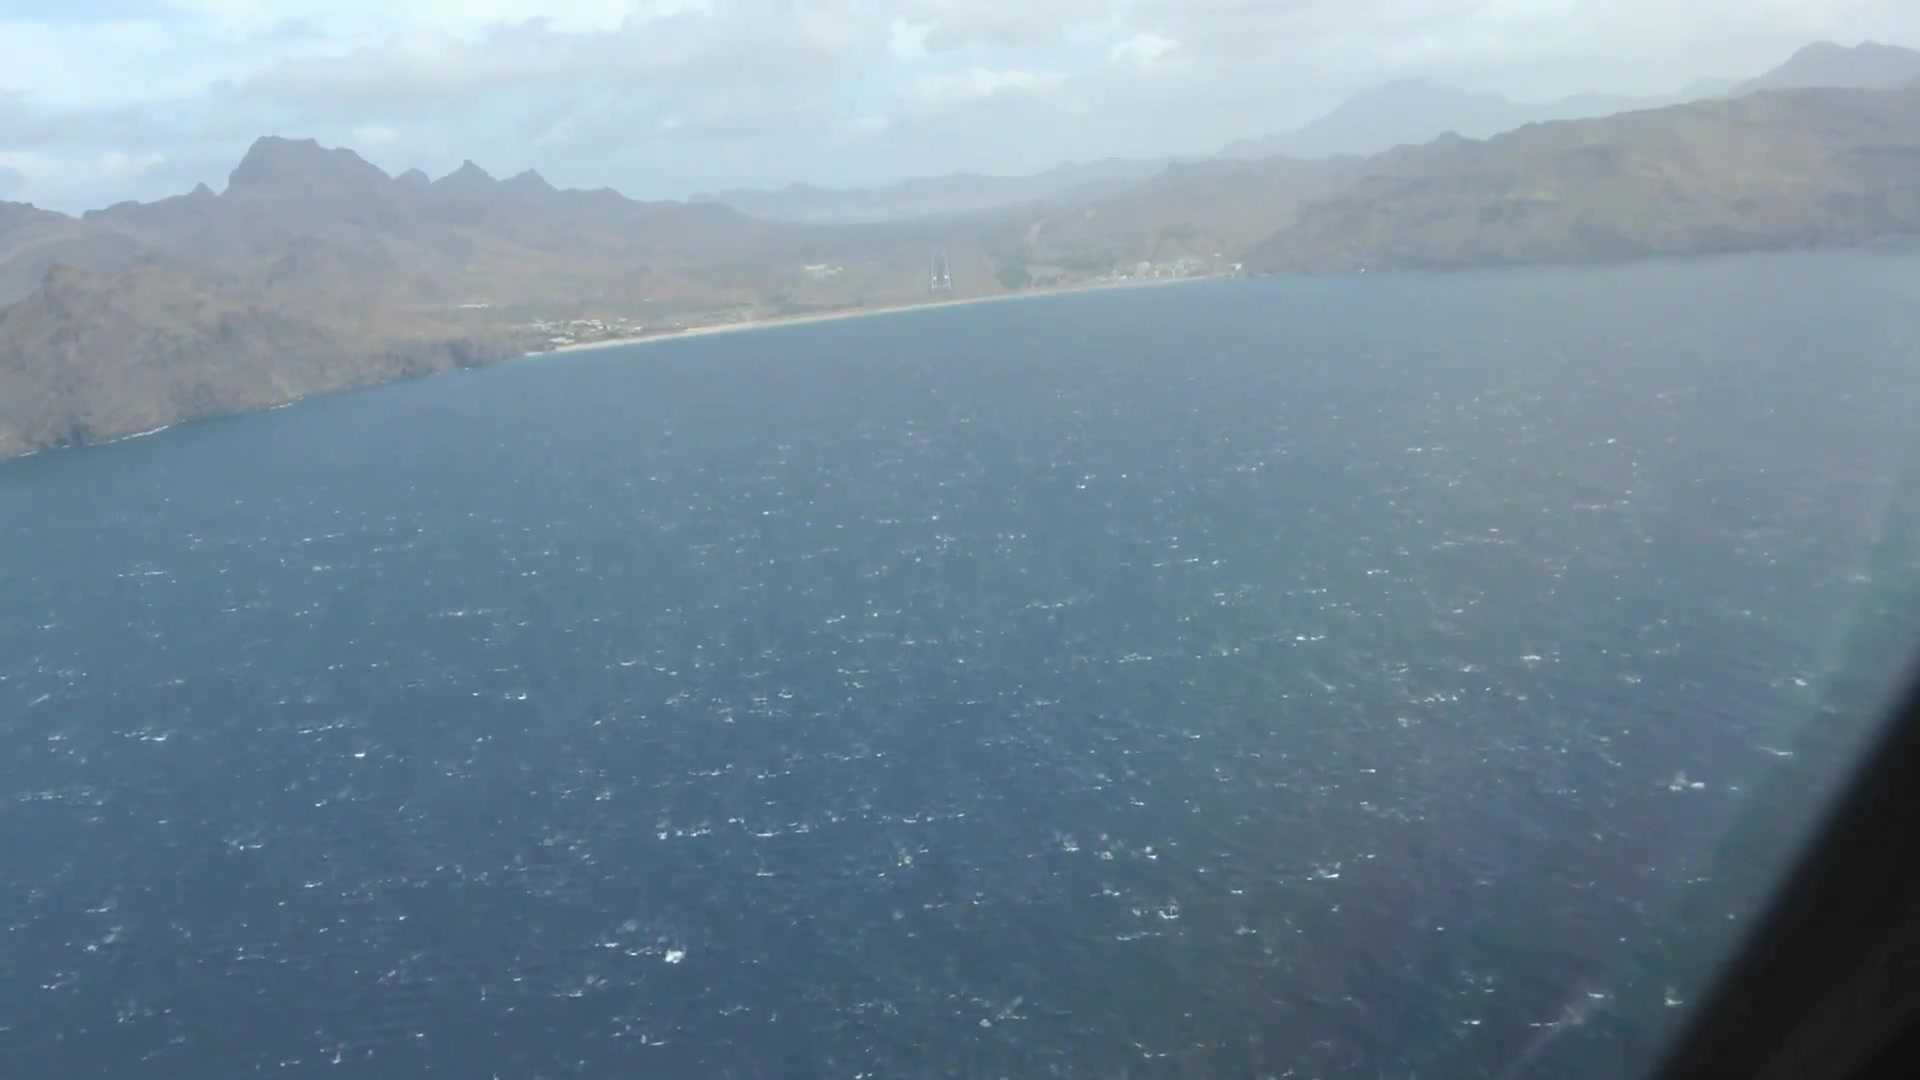runway: (928, 248, 953, 295)
